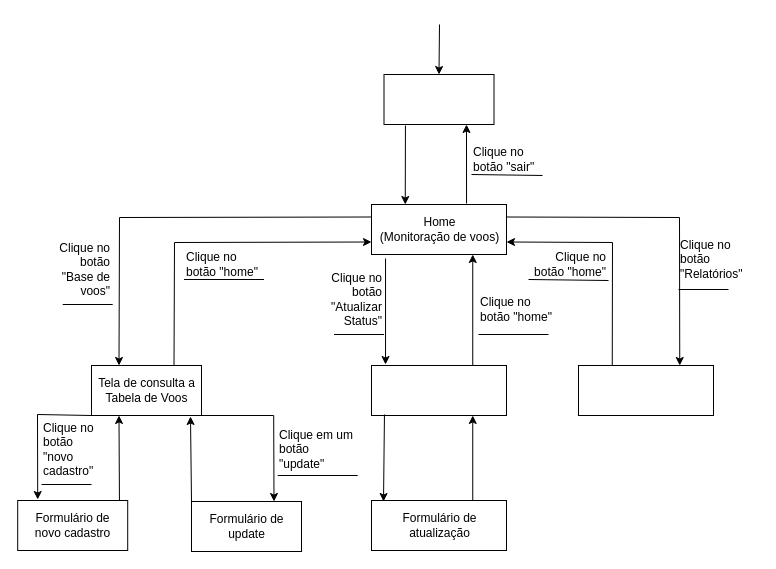
This 776x569 diagram has some shape labels left out. The shapes that lost their labels are listed below. From the top down, each one's centre as x and y in pixels, then its label:
At (438,99): "Tela de Login".
At (438,390): "Tela de atualização de status".
At (646,390): "Tela de geração de relatórios".
